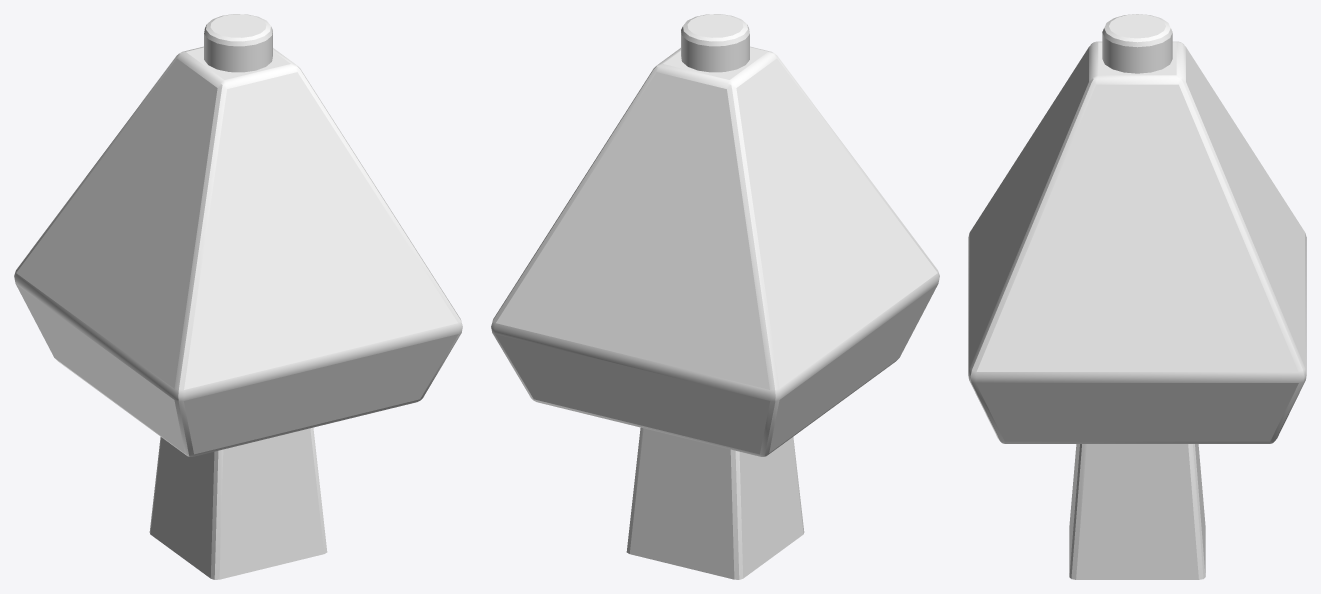
File: tree_002.fbx
3 renders of one model, left to right at view 1: azimuth 30°, elevation 25°; view 2: azimuth 150°, elevation 25°; view 3: azimuth 270°, elevation 25°, orthographic.
Parts seen in each view (by area): view 1: tree_002; view 2: tree_002; view 3: tree_002.
Part boxes in pixels (x1,y1,x2,y2): tree_002: (14,14,462,579); tree_002: (491,14,939,579); tree_002: (968,14,1306,579).
Bounding box in the file's own units: 1.55 × 2.66 × 1.55.
